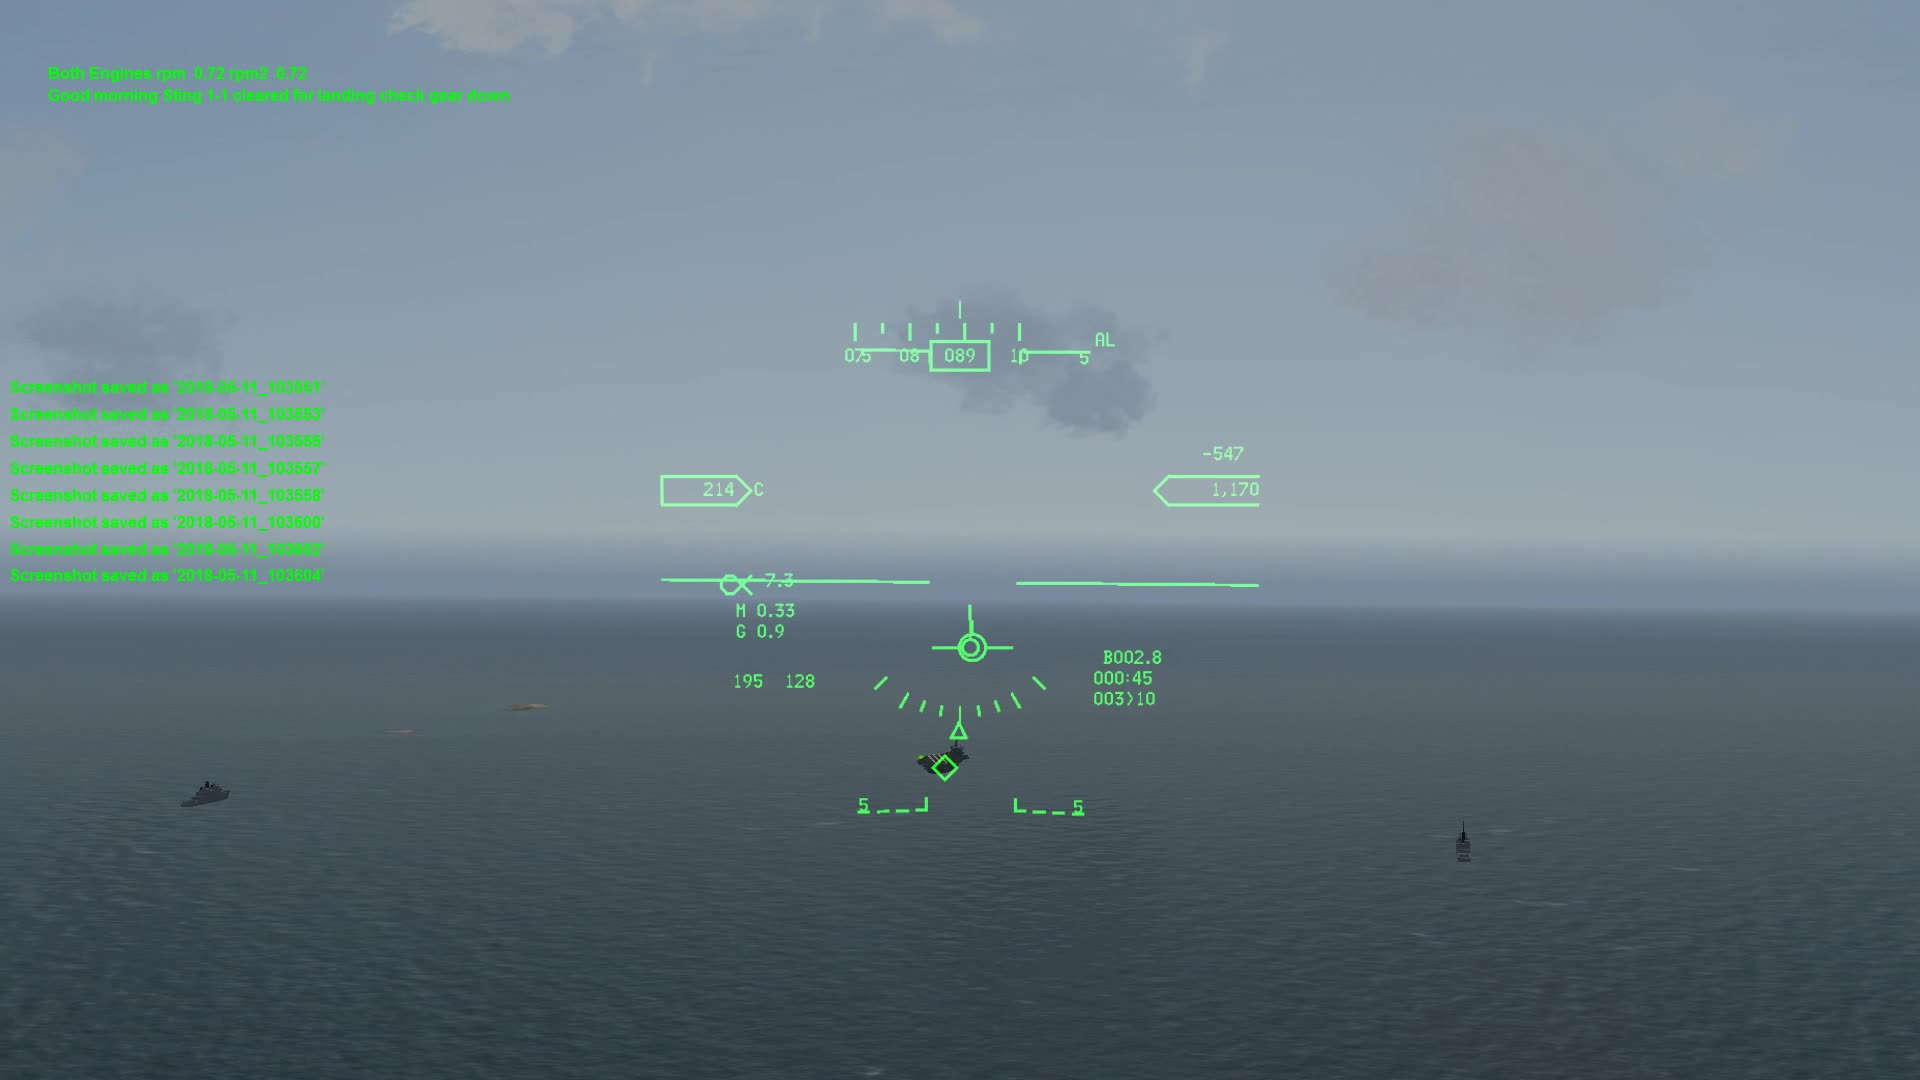speed vector: (942, 611, 996, 671)
